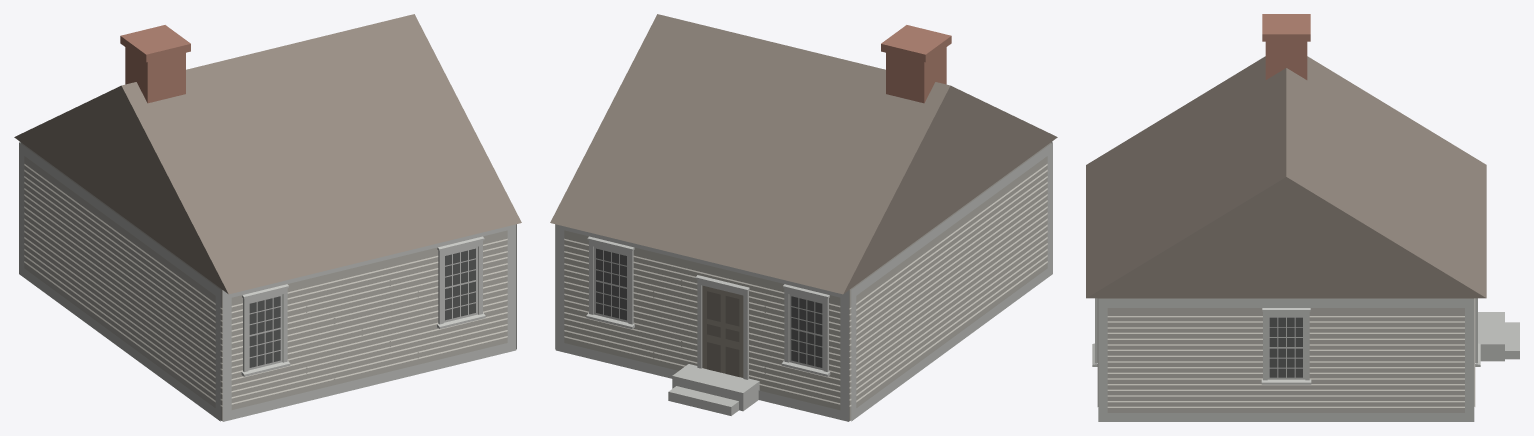
File: recon_1835_blk_school_section_tier_82_d4_03__inferred_1835.glb
The picture shows the model from 3 angles, left to right: view 1: azimuth 30°, elevation 25°; view 2: azimuth 150°, elevation 25°; view 3: azimuth 270°, elevation 25°; orthographic projection. The views are drawn at different scales.
Visible parts, largest first — view 1: recon_1835_blk_school_section_tier_82_d4_03__inferred_1835; view 2: recon_1835_blk_school_section_tier_82_d4_03__inferred_1835; view 3: recon_1835_blk_school_section_tier_82_d4_03__inferred_1835.
Boxes of the visible parts, x1=… form: recon_1835_blk_school_section_tier_82_d4_03__inferred_1835: x1=14, y1=14, x2=521, y2=421; recon_1835_blk_school_section_tier_82_d4_03__inferred_1835: x1=550, y1=14, x2=1057, y2=421; recon_1835_blk_school_section_tier_82_d4_03__inferred_1835: x1=1086, y1=14, x2=1519, y2=421.
Size of the model in its own units: 6.56 by 6.25 by 8.79.
